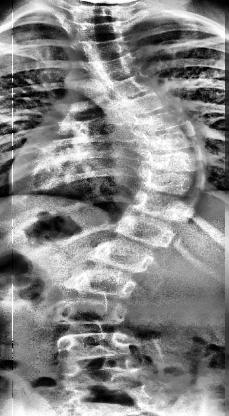Vertebrae: (56, 332, 132, 364), (116, 212, 178, 250), (94, 243, 157, 275), (59, 298, 129, 326), (74, 270, 139, 300), (137, 192, 199, 222), (118, 89, 174, 118), (146, 150, 208, 172), (134, 132, 202, 152), (150, 170, 204, 194), (106, 71, 152, 99), (136, 109, 184, 133), (97, 53, 137, 81), (87, 38, 127, 66), (79, 22, 125, 42)
